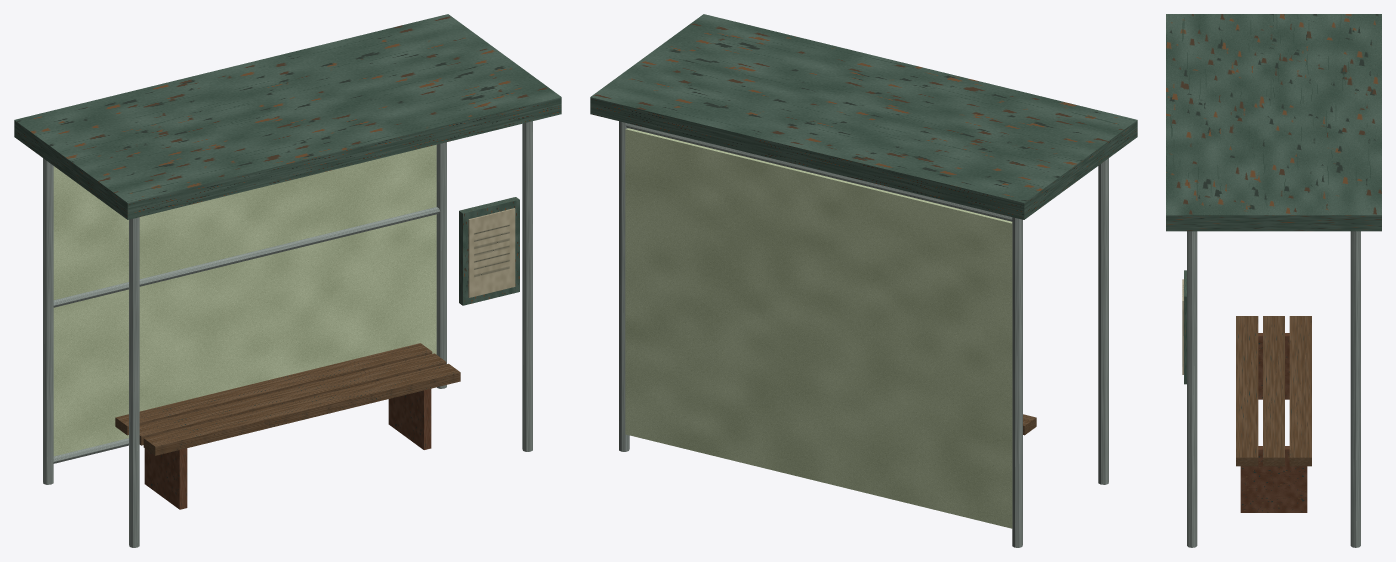
The model's file is BusShelter.glb.
3 renders of one model, left to right at view 1: azimuth 30°, elevation 25°; view 2: azimuth 150°, elevation 25°; view 3: azimuth 270°, elevation 25°, orthographic. The views are drawn at different scales.
Parts seen in each view (by area): view 1: BusShelter; view 2: BusShelter; view 3: BusShelter.
Part boxes in pixels (x1,y1,x2,y2): BusShelter: (14,14,561,547); BusShelter: (590,14,1137,547); BusShelter: (1166,14,1381,547).
Bounding box in the file's own units: 3.2 × 2.52 × 1.45.
Materials: 6 (6 with a texture image).
